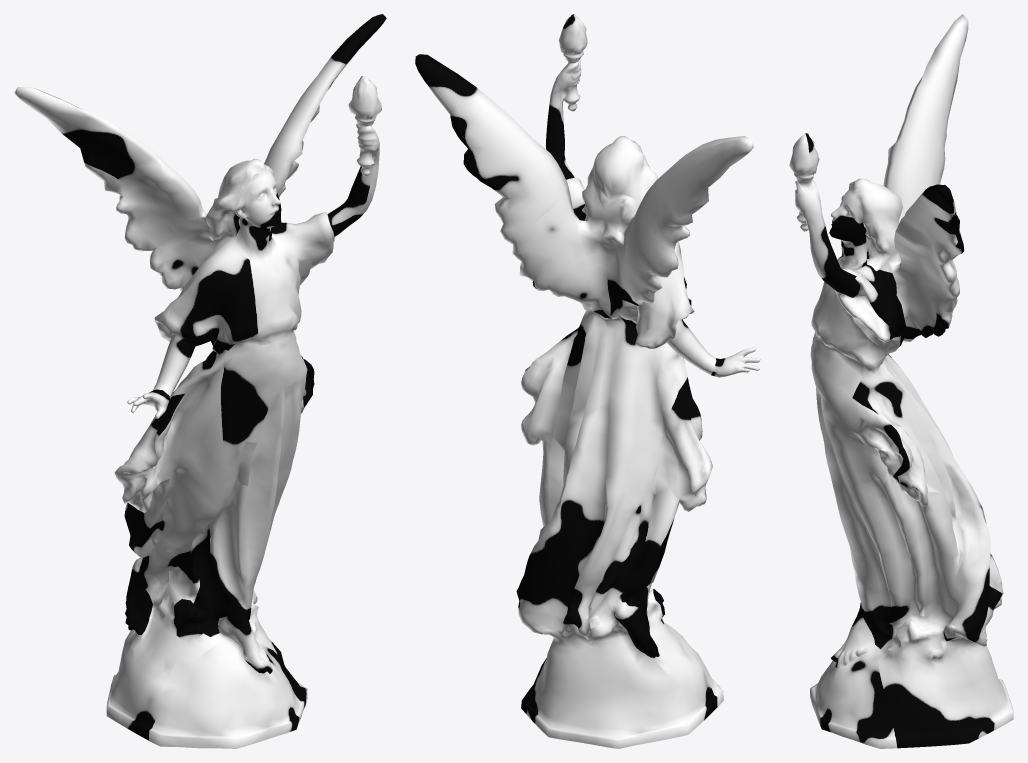
File: angel_noise.obj
3 views of the same model, side by side, from view 1: azimuth 30°, elevation 25°; view 2: azimuth 150°, elevation 25°; view 3: azimuth 270°, elevation 25° (orthographic). The views are drawn at different scales.
Parts seen in each view (by area): view 1: Stanford's_Lucy_Angel; view 2: Stanford's_Lucy_Angel; view 3: Stanford's_Lucy_Angel.
Boxes of the visible parts, x1=… form: Stanford's_Lucy_Angel: x1=14, y1=14, x2=386, y2=748; Stanford's_Lucy_Angel: x1=415, y1=14, x2=760, y2=748; Stanford's_Lucy_Angel: x1=789, y1=14, x2=1013, y2=748.
Bounding box in the file's own units: 8.08 × 13.93 × 4.54.
Materials: 1 (1 with a texture image).
